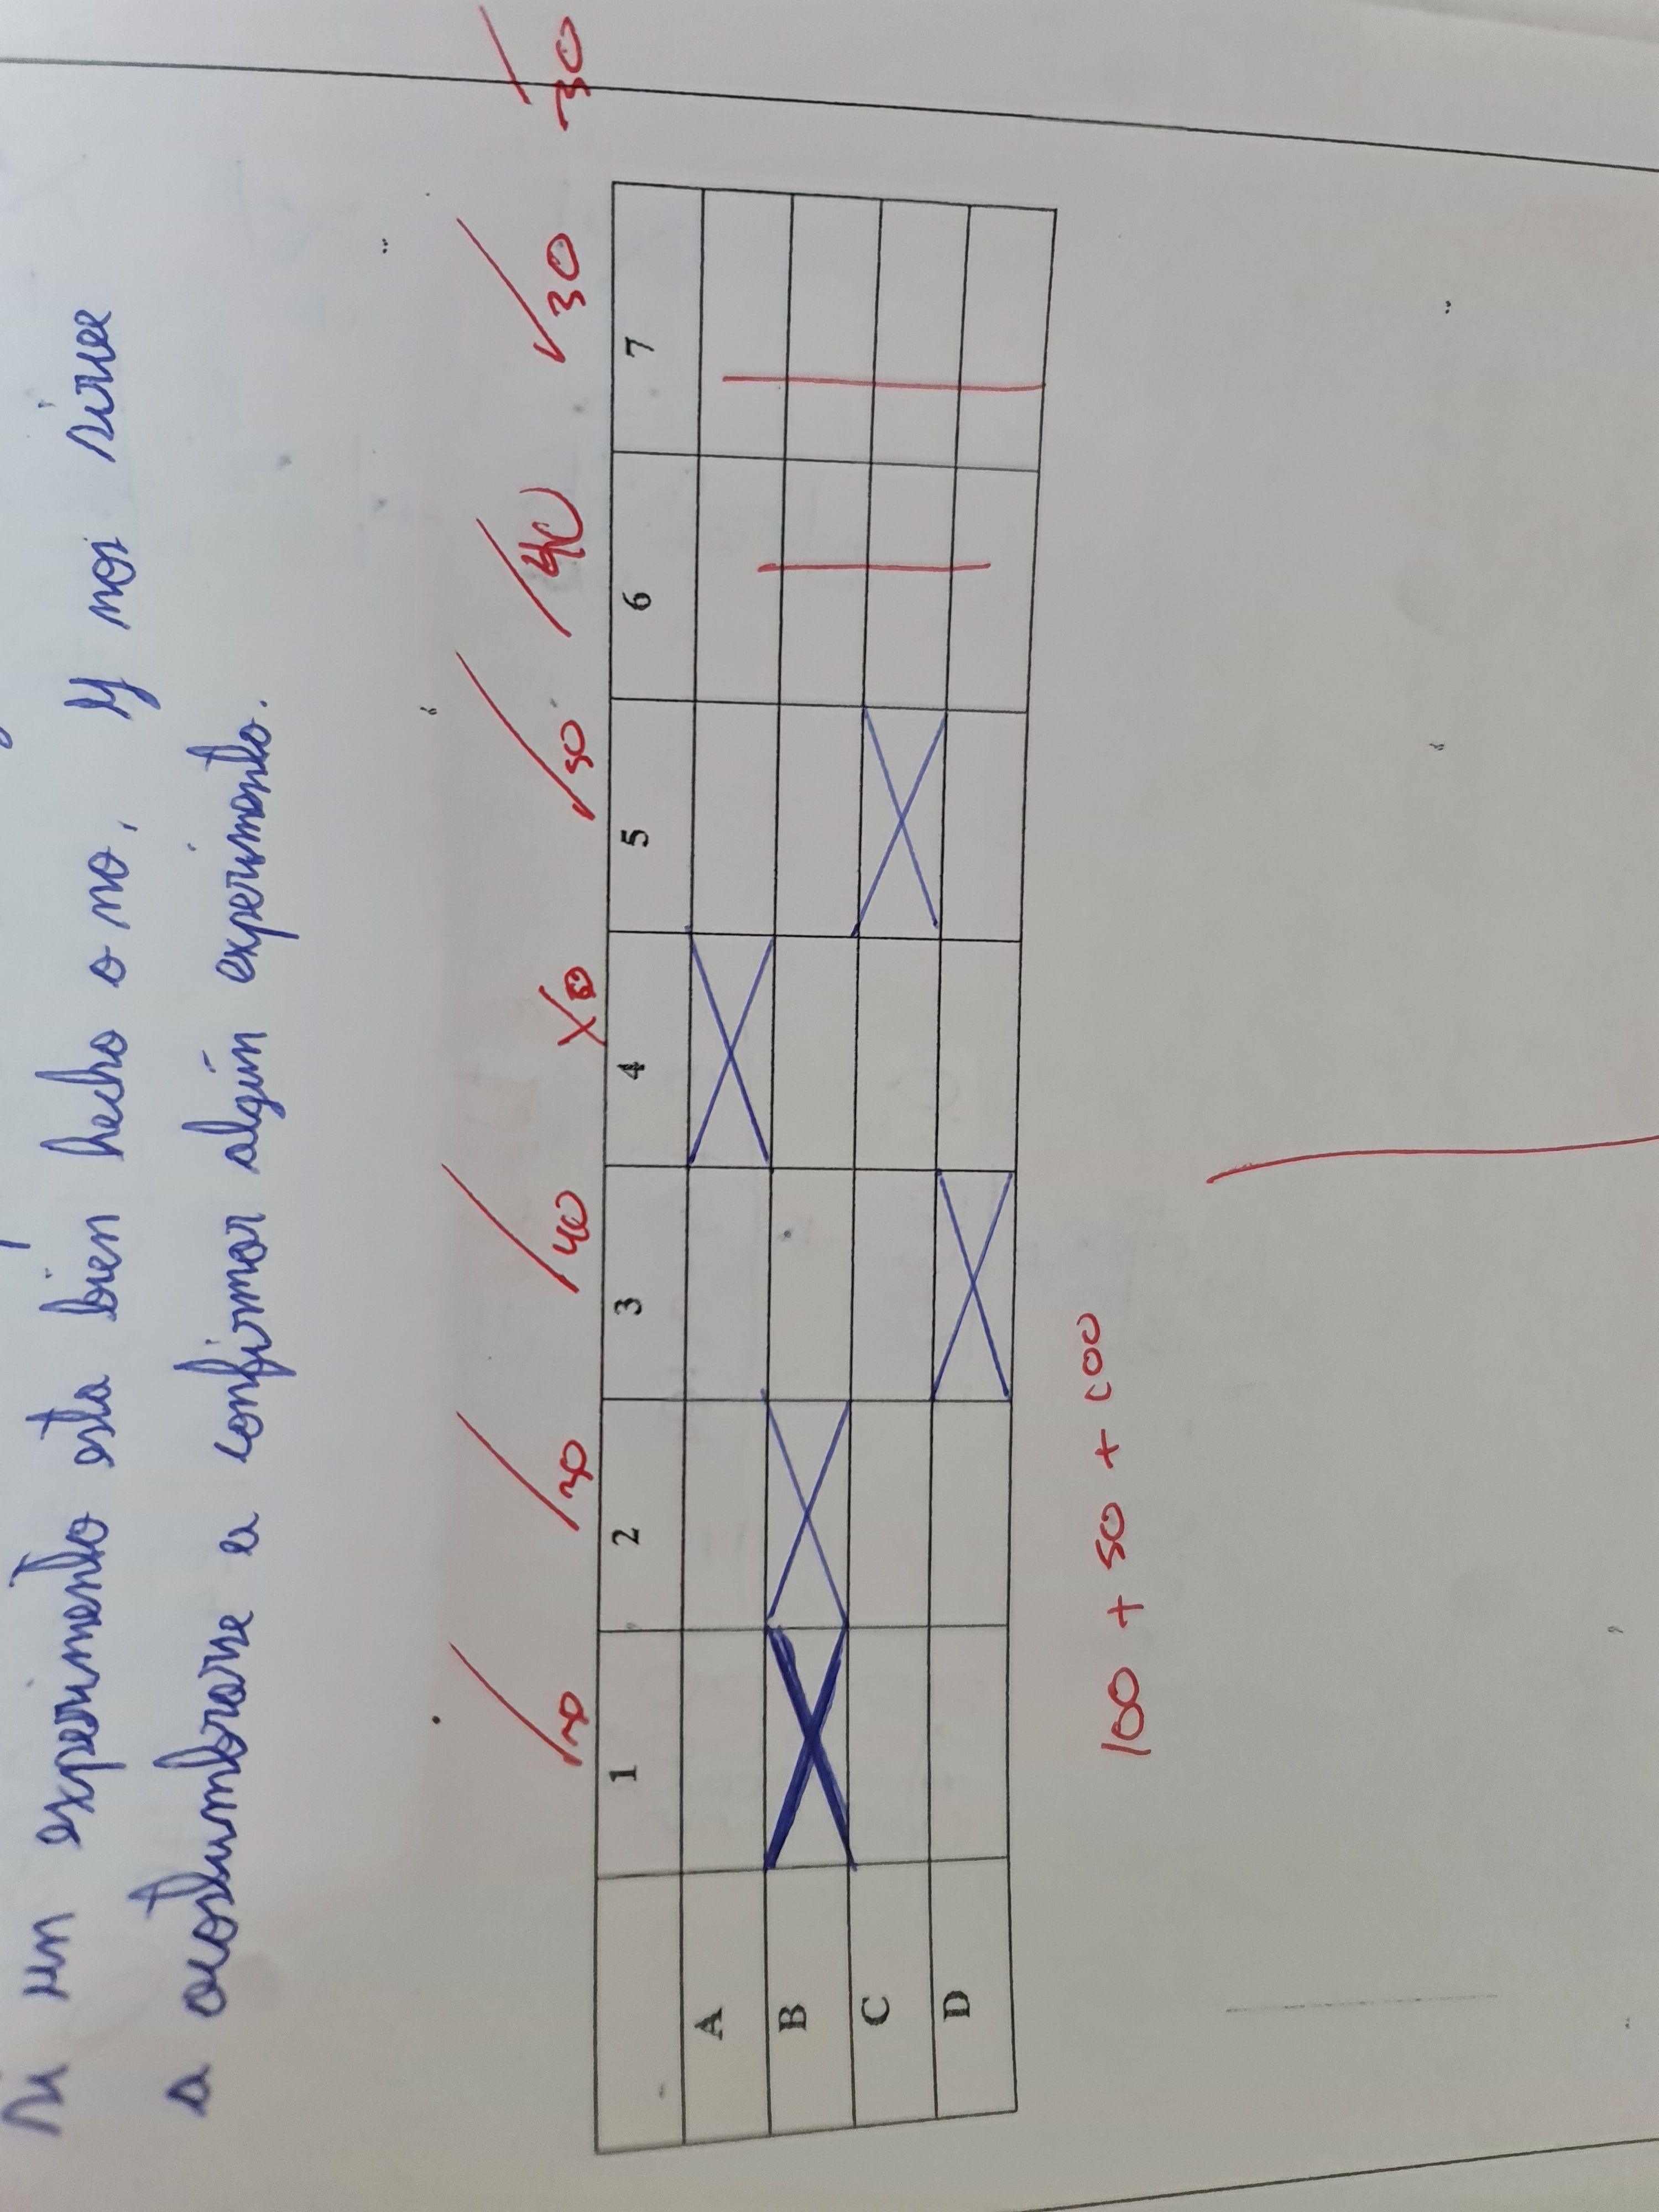column: (579, 1839, 1014, 2170), (572, 1379, 1042, 1646), (580, 688, 1054, 949), (575, 1618, 1033, 1888), (589, 1148, 1026, 1425), (594, 935, 1042, 1177)
